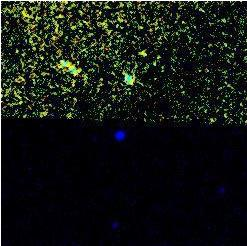star: (125, 34, 155, 64)
